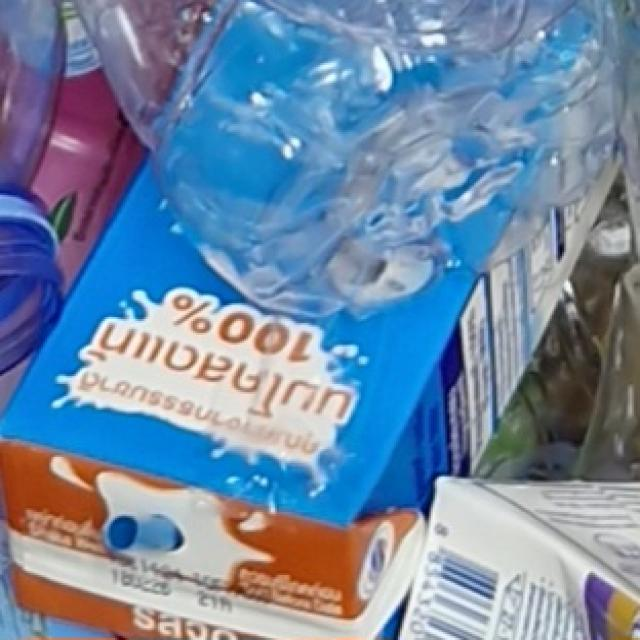drink carton: (10, 0, 640, 626)
